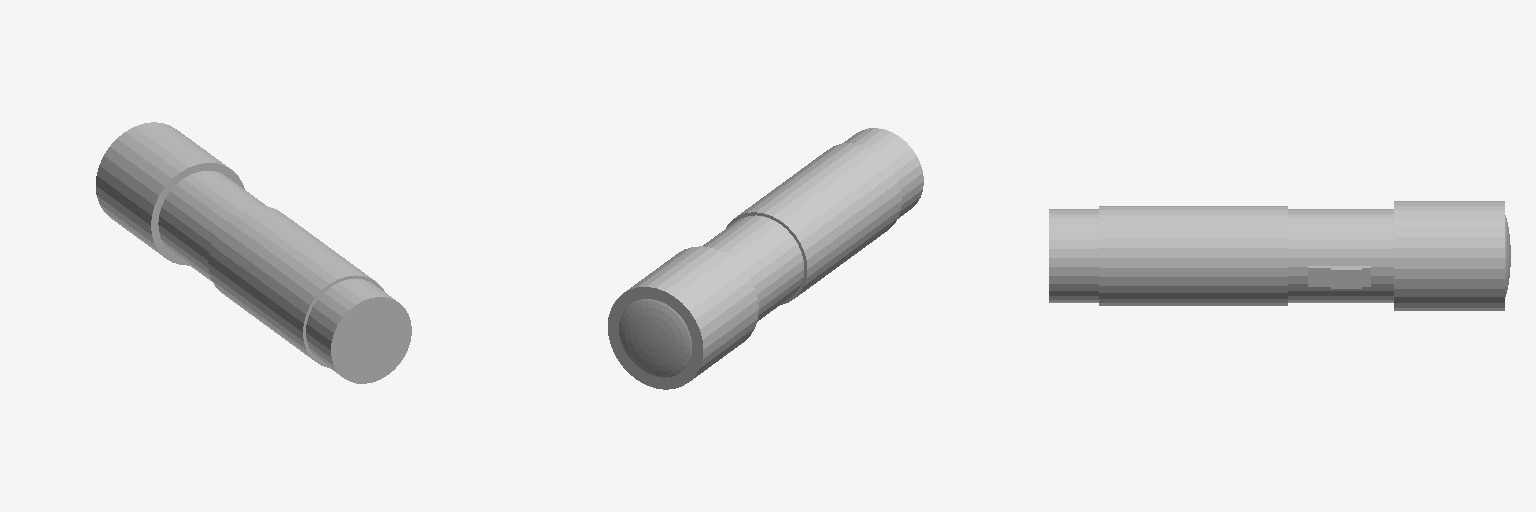
File: new_lanterna.obj
3 views of the same model, side by side, from view 1: azimuth 30°, elevation 25°; view 2: azimuth 150°, elevation 25°; view 3: azimuth 270°, elevation 25° (orthographic).
Parts seen in each view (by area): view 1: Cylinder.001; view 2: Cylinder.001; view 3: Cylinder.001.
Part boxes in pixels (left/top/right/bottom): Cylinder.001: left=96, top=122, right=411, bottom=383; Cylinder.001: left=608, top=128, right=923, bottom=389; Cylinder.001: left=1049, top=201, right=1510, bottom=310.
Size of the model in its own units: 0.1339 by 0.1339 by 0.5581.